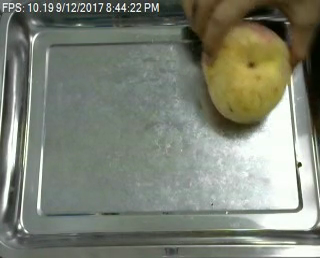Peach: (201, 18, 288, 123)
